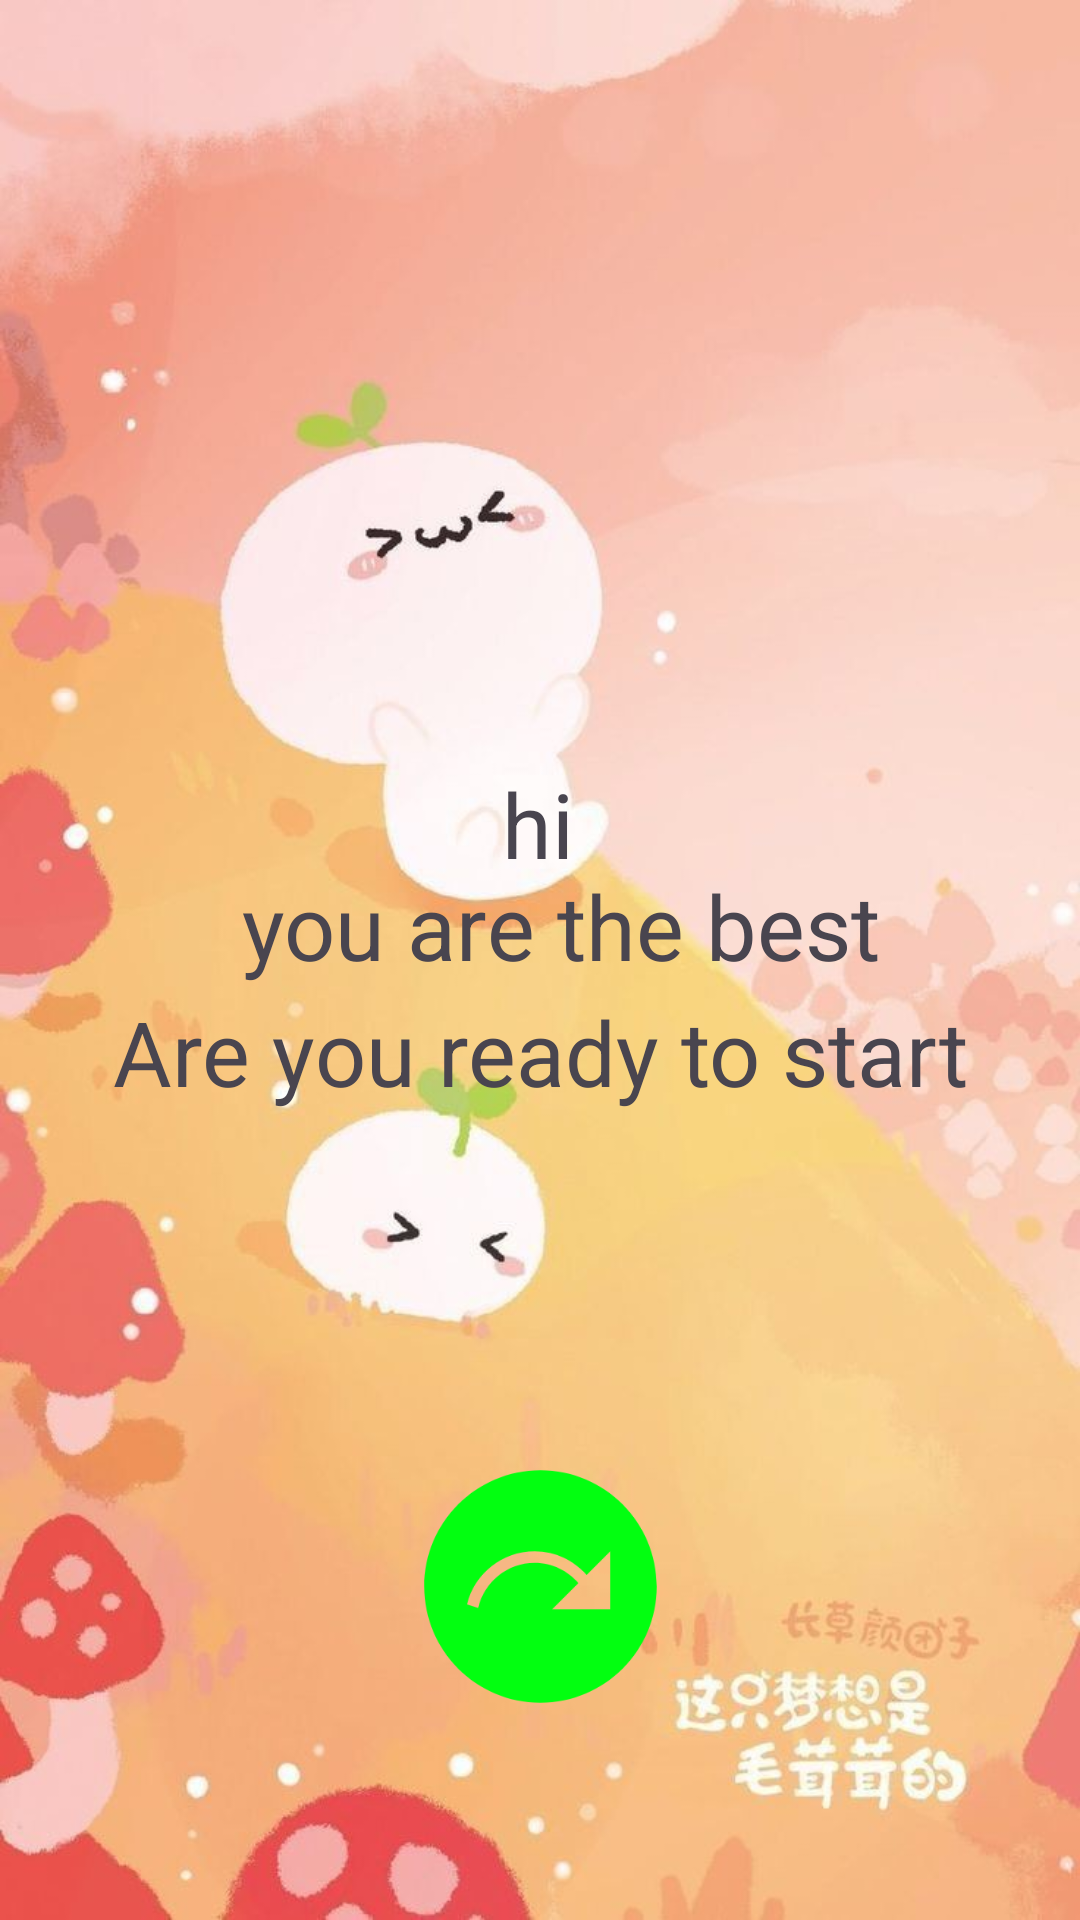

Screen size 1080px×1920px. Icon name, then its center in pixels as point (x, y):
next plan: point (552, 1586)
